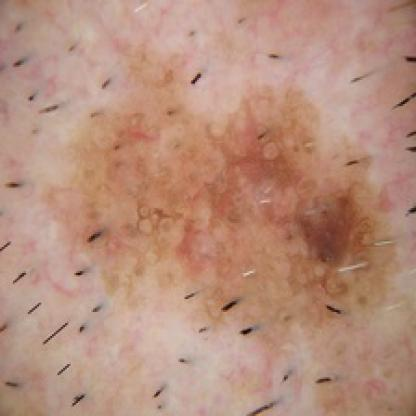malignant: (87, 65, 381, 314)
